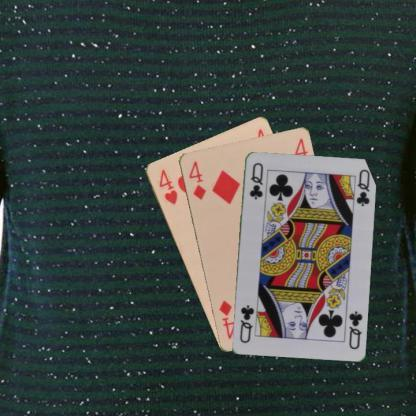4d: (185, 158, 207, 201)
4h: (156, 166, 179, 206)
Qc: (346, 308, 364, 351), (246, 159, 264, 200)
